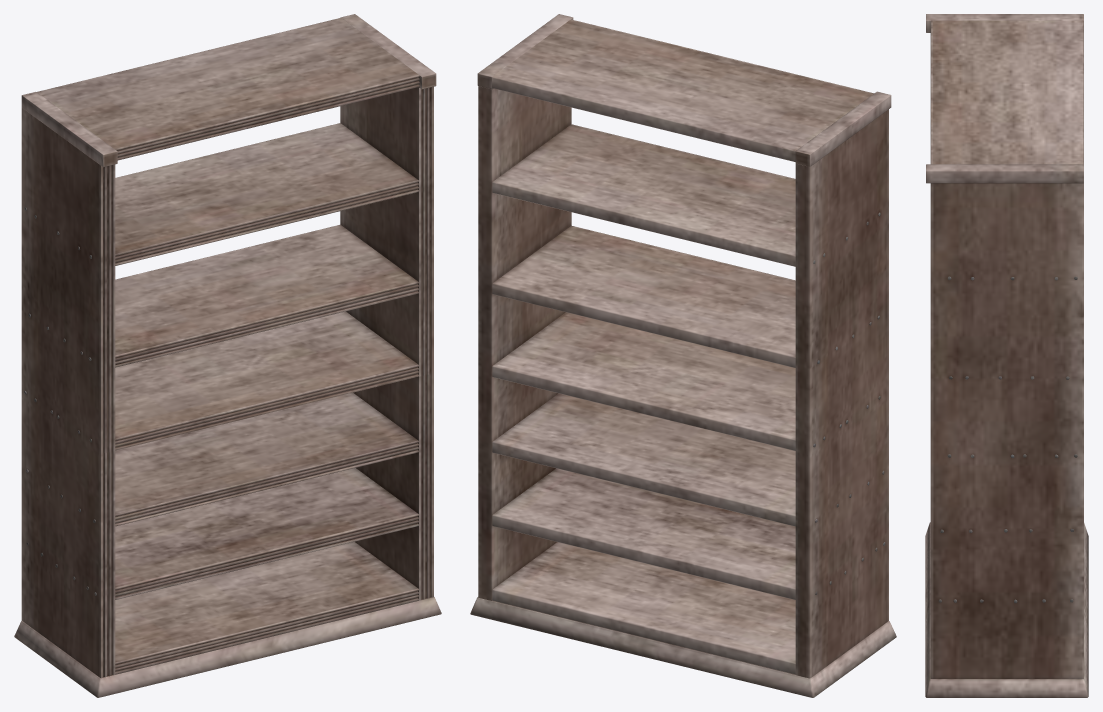
The model's file is wooden_bookshelf_worn.glb.
The picture shows the model from 3 angles, left to right: view 1: azimuth 30°, elevation 25°; view 2: azimuth 150°, elevation 25°; view 3: azimuth 270°, elevation 25°; orthographic projection. The views are drawn at different scales.
Visible parts, largest first — view 1: wooden_bookshelf_worn; view 2: wooden_bookshelf_worn; view 3: wooden_bookshelf_worn.
Boxes of the visible parts, x1,y1,x2,y2 form: wooden_bookshelf_worn: (14,14,441,697); wooden_bookshelf_worn: (470,14,896,697); wooden_bookshelf_worn: (925,14,1088,697).
Bounding box in the file's own units: 1.37 × 2.06 × 0.5816.
Materials: 1 (1 with a texture image).
